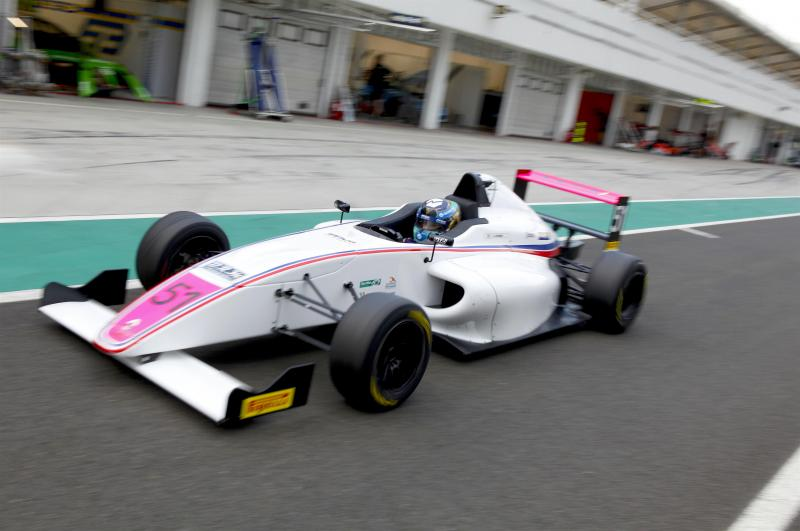Bobsleigh: (37, 172, 644, 420)
